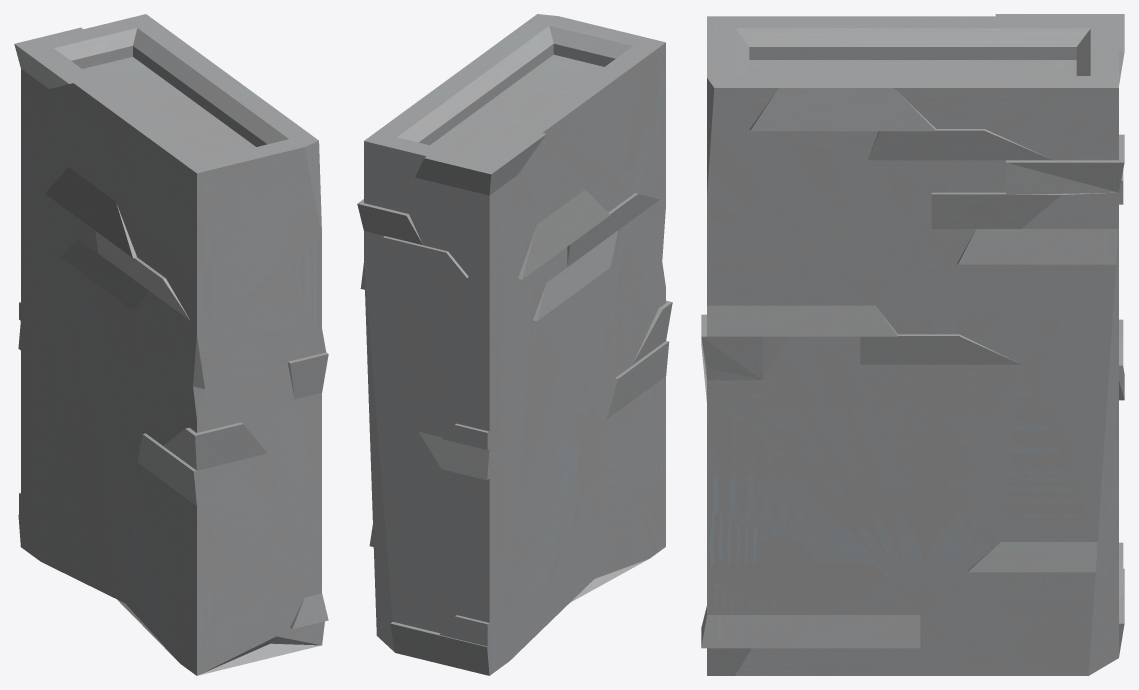
Rendered from Wall3.fbx.
3 views of the same model, side by side, from view 1: azimuth 30°, elevation 25°; view 2: azimuth 150°, elevation 25°; view 3: azimuth 270°, elevation 25° (orthographic). The views are drawn at different scales.
Parts seen in each view (by area): view 1: Group1; view 2: Group1; view 3: Group1.
Part boxes in pixels (box(x1,y1,x2,y2)): Group1: box(14, 14, 328, 675); Group1: box(357, 14, 672, 675); Group1: box(701, 14, 1124, 675).
Size of the model in its own units: 640 by 2300 by 1500.
